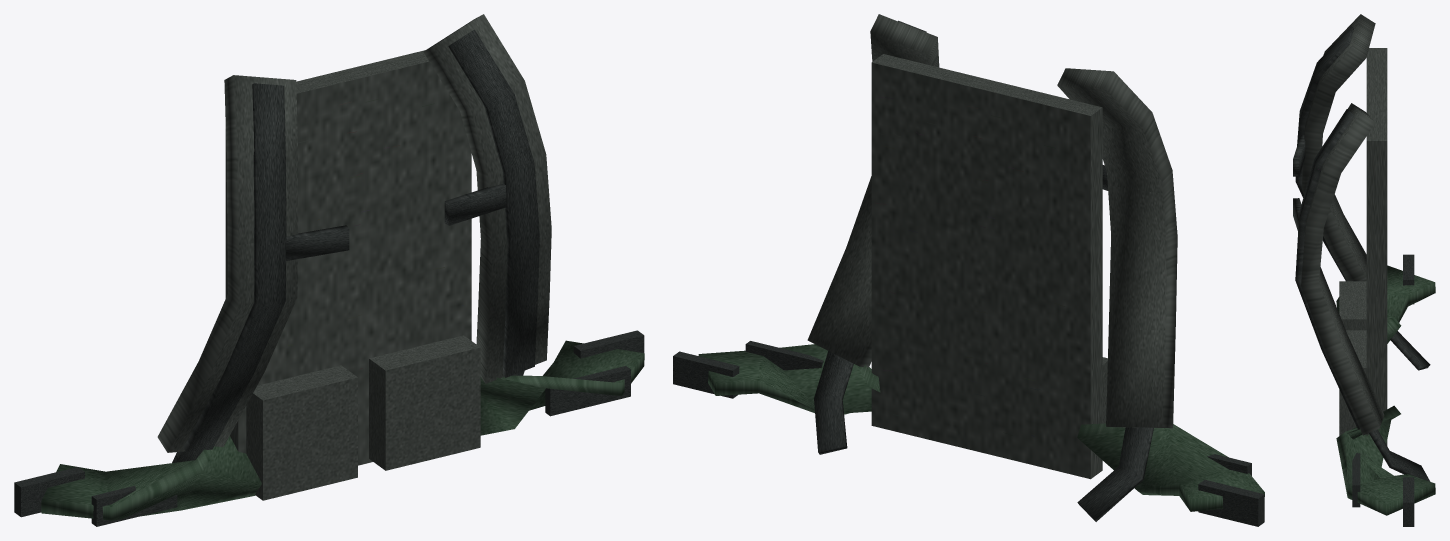
Rendered from PZ_MorrowTrail35_Padded_Harness.glb.
The picture shows the model from 3 angles, left to right: view 1: azimuth 30°, elevation 25°; view 2: azimuth 150°, elevation 25°; view 3: azimuth 270°, elevation 25°; orthographic projection. The views are drawn at different scales.
Visible parts, largest first — view 1: Backpanel_EVA_Mesh_Contact, L_Curved_Contoured_ShoulderPad, R_Curved_Contoured_ShoulderPad, R_Backpanel_Lumbar_Foam, L_Backpanel_Lumbar_Foam, L_Shoulder_Webbing_Overlay, R_Shoulder_Webbing_Overlay, L_Padded_Waist_Belt, R_Padded_Waist_Belt, R_Waist_Belt_Webbing, Sternum_Strap_Left, Sternum_Strap_Right (+3 smaller); view 2: Backpanel_EVA_Mesh_Contact, L_Curved_Contoured_ShoulderPad, R_Curved_Contoured_ShoulderPad, L_Padded_Waist_Belt, R_Padded_Waist_Belt, L_Shoulder_Adjuster_Webbing, R_Shoulder_Adjuster_Webbing, Hip_Webbing_Left, Hip_Webbing_Right, R_Waist_Belt_Webbing; view 3: R_Curved_Contoured_ShoulderPad, Backpanel_EVA_Mesh_Contact, L_Curved_Contoured_ShoulderPad, R_Padded_Waist_Belt, R_Shoulder_Webbing_Overlay, L_Padded_Waist_Belt, L_Shoulder_Webbing_Overlay, L_Backpanel_Lumbar_Foam, R_Backpanel_Lumbar_Foam, R_Shoulder_Adjuster_Webbing, Hip_Webbing_Right, L_Shoulder_Adjuster_Webbing (+4 smaller).
Boxes of the visible parts, bbox=[...] form: Backpanel_EVA_Mesh_Contact: bbox=[225, 50, 471, 465]; L_Curved_Contoured_ShoulderPad: bbox=[157, 75, 298, 452]; R_Curved_Contoured_ShoulderPad: bbox=[423, 14, 551, 383]; R_Backpanel_Lumbar_Foam: bbox=[369, 335, 480, 470]; L_Backpanel_Lumbar_Foam: bbox=[246, 365, 357, 500]; L_Shoulder_Webbing_Overlay: bbox=[183, 83, 286, 451]; R_Shoulder_Webbing_Overlay: bbox=[448, 29, 539, 377]; L_Padded_Waist_Belt: bbox=[41, 436, 261, 520]; R_Padded_Waist_Belt: bbox=[480, 340, 644, 435]; R_Waist_Belt_Webbing: bbox=[545, 366, 630, 416]; Sternum_Strap_Left: bbox=[286, 225, 349, 260]; Sternum_Strap_Right: bbox=[444, 184, 506, 225]; Backpanel_EVA_Mesh_Contact: bbox=[871, 54, 1102, 479]; L_Curved_Contoured_ShoulderPad: bbox=[1057, 68, 1177, 428]; R_Curved_Contoured_ShoulderPad: bbox=[807, 14, 939, 367]; L_Padded_Waist_Belt: bbox=[1077, 423, 1264, 511]; R_Padded_Waist_Belt: bbox=[698, 344, 880, 414]; L_Shoulder_Adjuster_Webbing: bbox=[1077, 427, 1153, 521]; R_Shoulder_Adjuster_Webbing: bbox=[814, 351, 853, 454]; Hip_Webbing_Left: bbox=[1198, 479, 1264, 526]; Hip_Webbing_Right: bbox=[673, 351, 739, 398]; R_Waist_Belt_Webbing: bbox=[745, 341, 823, 370]; R_Curved_Contoured_ShoulderPad: bbox=[1301, 103, 1384, 435]; Backpanel_EVA_Mesh_Contact: bbox=[1366, 48, 1387, 445]; L_Curved_Contoured_ShoulderPad: bbox=[1302, 14, 1375, 281]; R_Padded_Waist_Belt: bbox=[1336, 405, 1435, 515]; R_Shoulder_Webbing_Overlay: bbox=[1295, 109, 1359, 429]; L_Padded_Waist_Belt: bbox=[1336, 265, 1435, 343]; L_Shoulder_Webbing_Overlay: bbox=[1295, 26, 1354, 281]; L_Backpanel_Lumbar_Foam: bbox=[1339, 281, 1366, 330]; R_Backpanel_Lumbar_Foam: bbox=[1339, 330, 1366, 435]; R_Shoulder_Adjuster_Webbing: bbox=[1369, 429, 1430, 481]; Hip_Webbing_Right: bbox=[1403, 477, 1414, 526]; L_Shoulder_Adjuster_Webbing: bbox=[1390, 331, 1430, 370].
Size of the model in its own units: 0.742 by 0.5061 by 0.1803.
3 materials, 3 textured.
